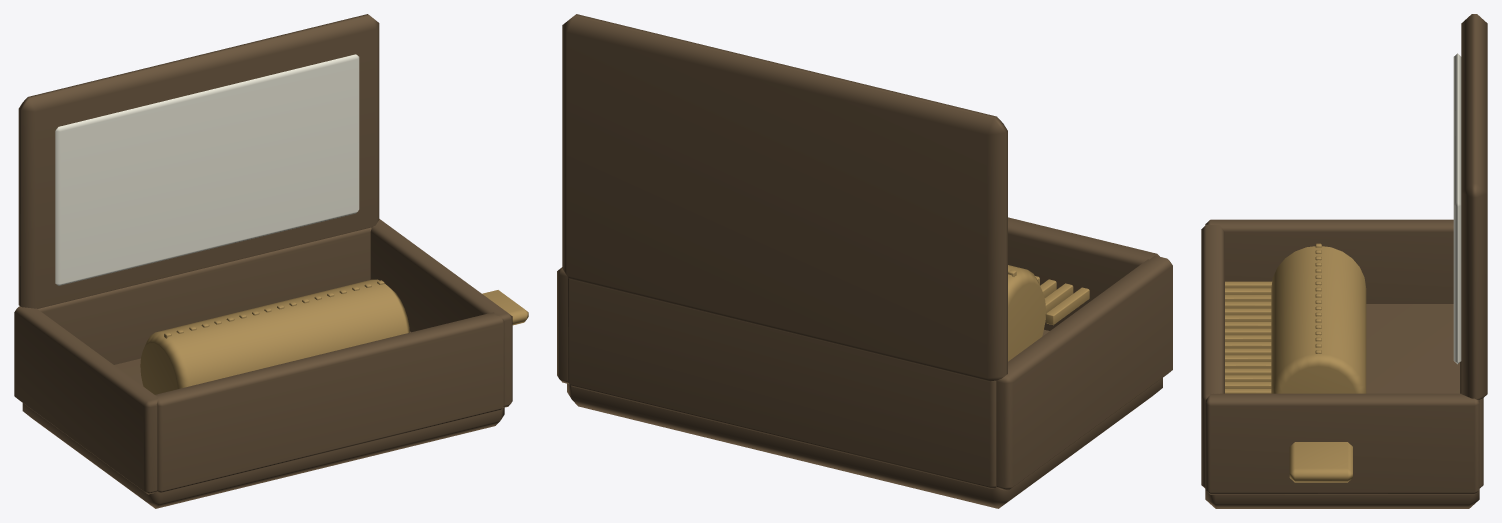
File: music_box.glb
3 views of the same model, side by side, from view 1: azimuth 30°, elevation 25°; view 2: azimuth 150°, elevation 25°; view 3: azimuth 270°, elevation 25° (orthographic). The views are drawn at different scales.
Visible parts, largest first — view 1: music box base, lid lining, pinned cylinder; view 2: music box base, pinned cylinder; view 3: music box base, pinned cylinder, lid lining.
Part boxes in pixels (x1,y1,x2,y2): music box base: [14, 14, 512, 508]; lid lining: [55, 54, 359, 285]; pinned cylinder: [140, 279, 528, 394]; music box base: [557, 14, 1172, 508]; pinned cylinder: [1008, 265, 1089, 361]; music box base: [1201, 14, 1487, 508]; pinned cylinder: [1225, 243, 1366, 482]; lid lining: [1453, 53, 1461, 364].
Size of the model in its own units: 0.9525 by 0.68 by 0.5425.
